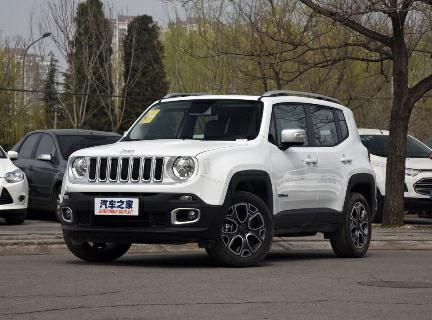Jeep-指南者: (49, 84, 388, 274)
